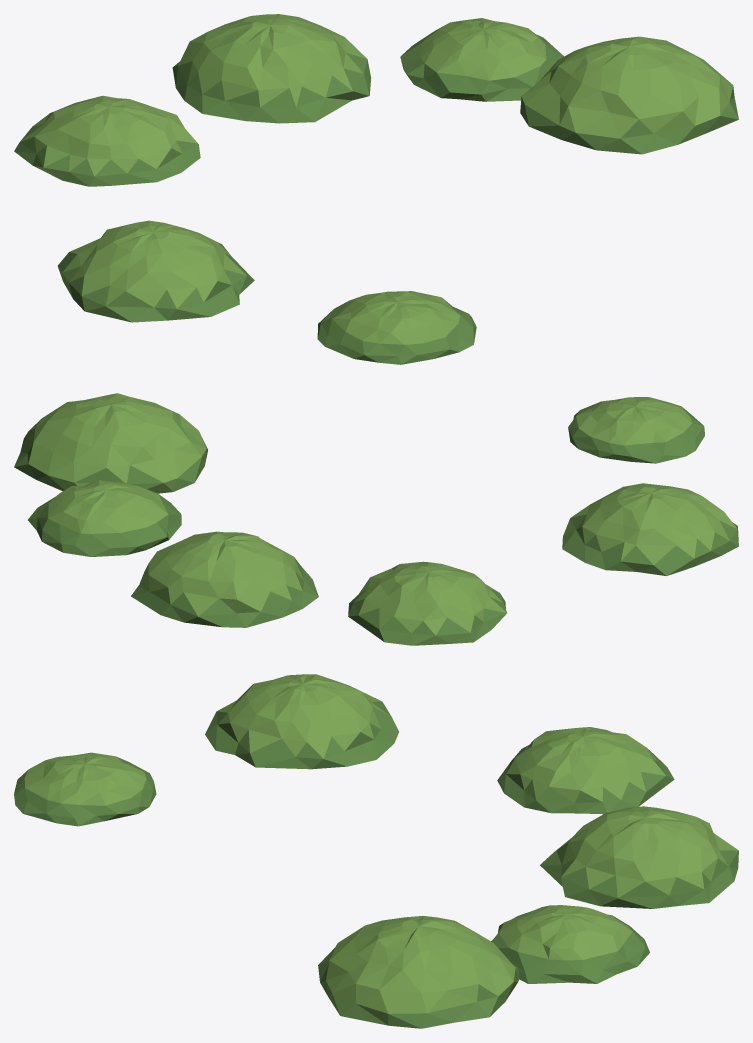
Rendered from hills_ring.glb.
3 views of the same model, one above another, from view 1: azimuth 30°, elevation 25°; view 2: azimuth 150°, elevation 25°; view 3: azimuth 270°, elevation 25° (orthographic). The views are drawn at different scales.
Visible parts, largest first — view 1: hills_ring; view 2: hills_ring; view 3: hills_ring.
Boxes of the visible parts, left/top/right/bottom form: hills_ring: left=14, top=14, right=738, bottom=364; hills_ring: left=14, top=393, right=738, bottom=645; hills_ring: left=14, top=674, right=738, bottom=1028.
Bounding box in the file's own units: 274 × 22.33 × 250.
